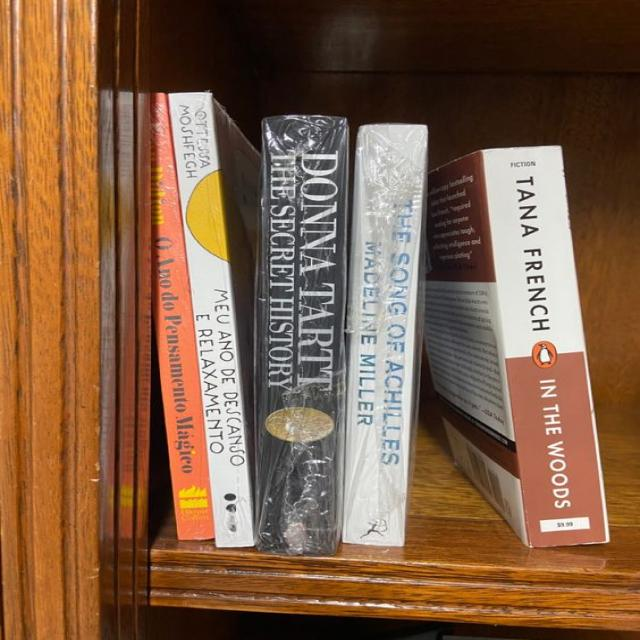book: (485, 147, 599, 546), (257, 118, 349, 556), (166, 95, 254, 548), (343, 123, 426, 546), (152, 94, 213, 537)
